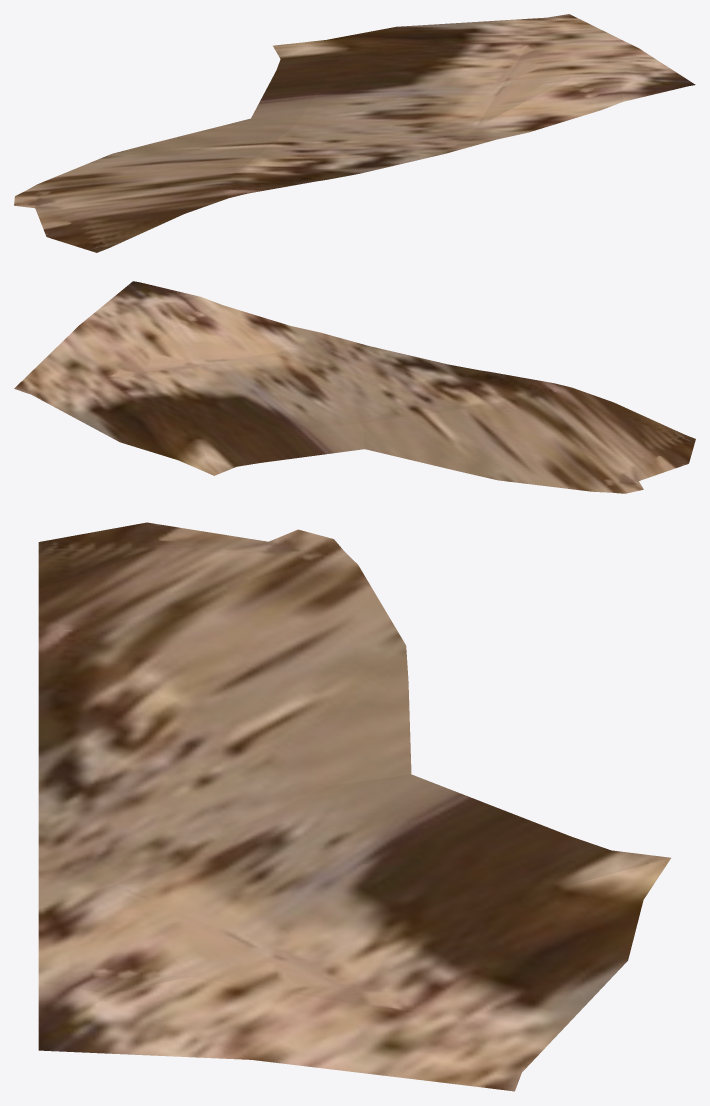
3 renders of one model, top to bottom at view 1: azimuth 30°, elevation 25°; view 2: azimuth 150°, elevation 25°; view 3: azimuth 270°, elevation 25°, orthographic. The views are drawn at different scales.
Bounding box in the file's own units: 1.31 × 0.0494 × 0.6149.
Materials: 1 (1 with a texture image).
